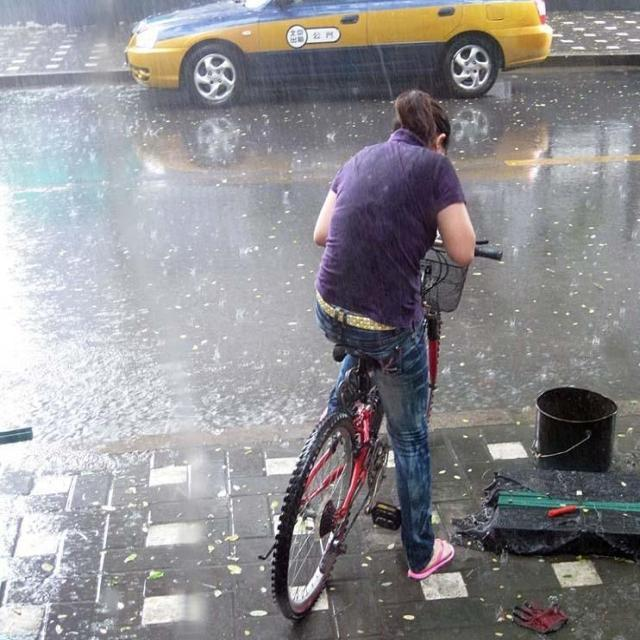car: (124, 0, 550, 107)
